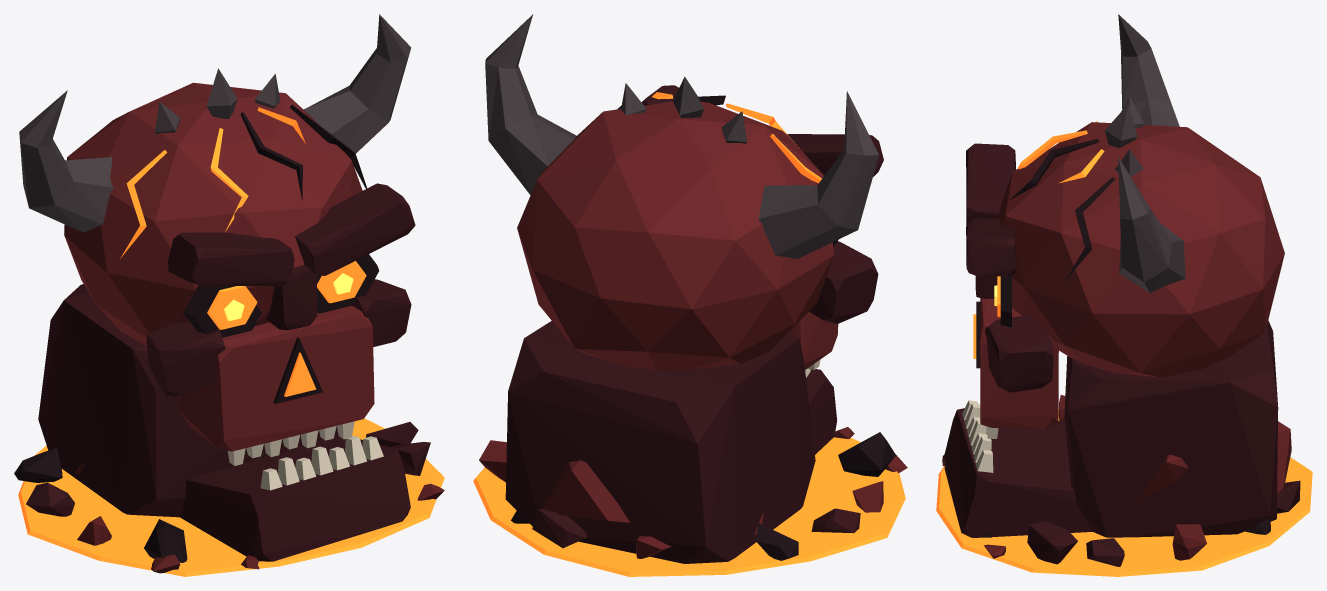
The model's file is Hell_1_SkullRock.fbx.
The picture shows the model from 3 angles, left to right: view 1: azimuth 30°, elevation 25°; view 2: azimuth 150°, elevation 25°; view 3: azimuth 270°, elevation 25°; orthographic projection. The views are drawn at different scales.
Visible parts, largest first — view 1: Hell_1_SkullRock__Hell_GroundDark, Hell_1_SkullRock__Hell_Tile, Hell_1_SkullRock__Neon_Hell_Lava, Hell_1_SkullRock__Hell_Iron, Hell_1_SkullRock__Hell_Black, Hell_1_SkullRock__Hell_Bone, Hell_1_SkullRock__Hell_Ground, Hell_1_SkullRock__Neon_Hell_LavaHot; view 2: Hell_1_SkullRock__Hell_Tile, Hell_1_SkullRock__Hell_GroundDark, Hell_1_SkullRock__Hell_Iron, Hell_1_SkullRock__Neon_Hell_Lava, Hell_1_SkullRock__Hell_Ground, Hell_1_SkullRock__Hell_Black; view 3: Hell_1_SkullRock__Hell_GroundDark, Hell_1_SkullRock__Hell_Tile, Hell_1_SkullRock__Neon_Hell_Lava, Hell_1_SkullRock__Hell_Iron, Hell_1_SkullRock__Hell_Ground, Hell_1_SkullRock__Hell_Black, Hell_1_SkullRock__Hell_Bone.
Boxes of the visible parts, x1,y1,x2,y2 form: Hell_1_SkullRock__Hell_GroundDark: (26,183,430,561); Hell_1_SkullRock__Hell_Tile: (64,82,374,451); Hell_1_SkullRock__Neon_Hell_Lava: (18,107,444,576); Hell_1_SkullRock__Hell_Iron: (19,14,411,232); Hell_1_SkullRock__Hell_Black: (14,105,379,562); Hell_1_SkullRock__Hell_Bone: (227,421,383,490); Hell_1_SkullRock__Hell_Ground: (74,461,444,573); Hell_1_SkullRock__Neon_Hell_LavaHot: (224,273,353,320); Hell_1_SkullRock__Hell_Tile: (517,101,838,370); Hell_1_SkullRock__Hell_GroundDark: (505,85,883,563); Hell_1_SkullRock__Hell_Iron: (485,14,878,258); Hell_1_SkullRock__Neon_Hell_Lava: (473,92,905,576); Hell_1_SkullRock__Hell_Ground: (479,427,907,558); Hell_1_SkullRock__Hell_Black: (511,95,895,560); Hell_1_SkullRock__Hell_GroundDark: (944,143,1300,566); Hell_1_SkullRock__Hell_Tile: (980,122,1284,429); Hell_1_SkullRock__Neon_Hell_Lava: (936,121,1312,576); Hell_1_SkullRock__Hell_Iron: (1105,14,1185,292); Hell_1_SkullRock__Hell_Ground: (942,395,1291,560); Hell_1_SkullRock__Hell_Black: (976,139,1270,537); Hell_1_SkullRock__Hell_Bone: (962,400,998,472).
Bounding box in the file's own units: 75.34 × 80 × 67.01.
